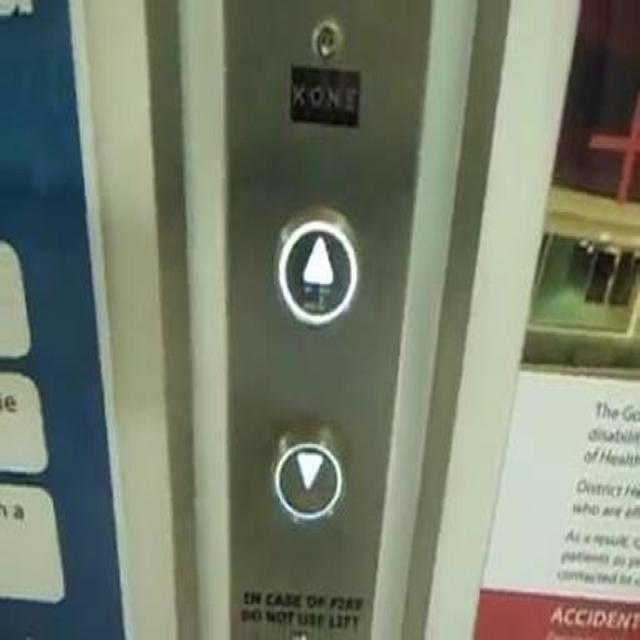down: (269, 416, 345, 524)
up: (272, 202, 358, 326)
